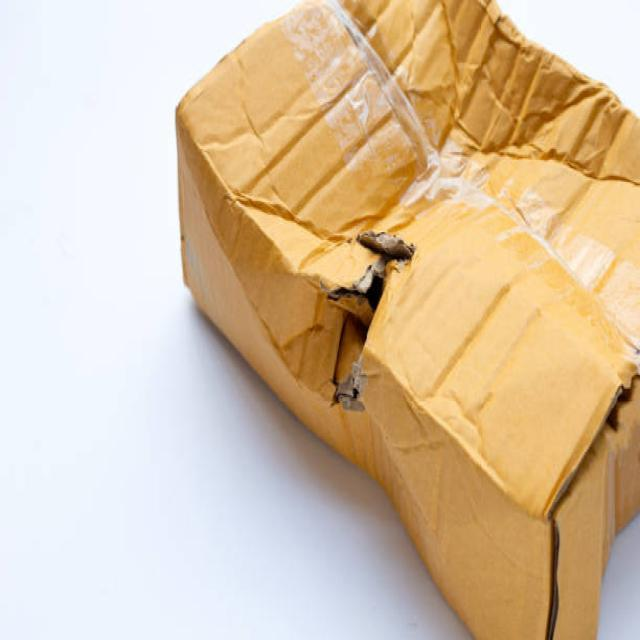box: (174, 0, 640, 640)
crushed: (415, 0, 640, 193), (211, 45, 402, 226), (428, 271, 542, 448)
opened: (324, 227, 417, 414)
